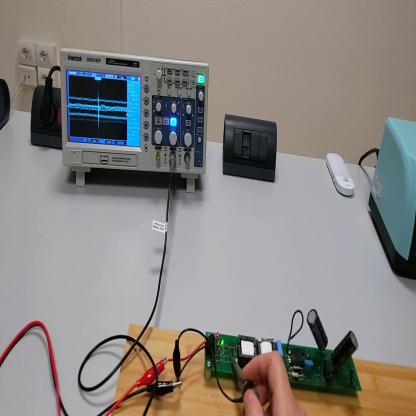hand: (242, 350, 302, 412)
high voltage board: (169, 301, 363, 396)
oscilloscope: (59, 49, 210, 195)
oscilloscope probe tip: (227, 347, 262, 408)
socket: (30, 89, 63, 150), (1, 78, 13, 129)
welder station: (367, 109, 416, 280)
working area: (112, 325, 416, 416)
